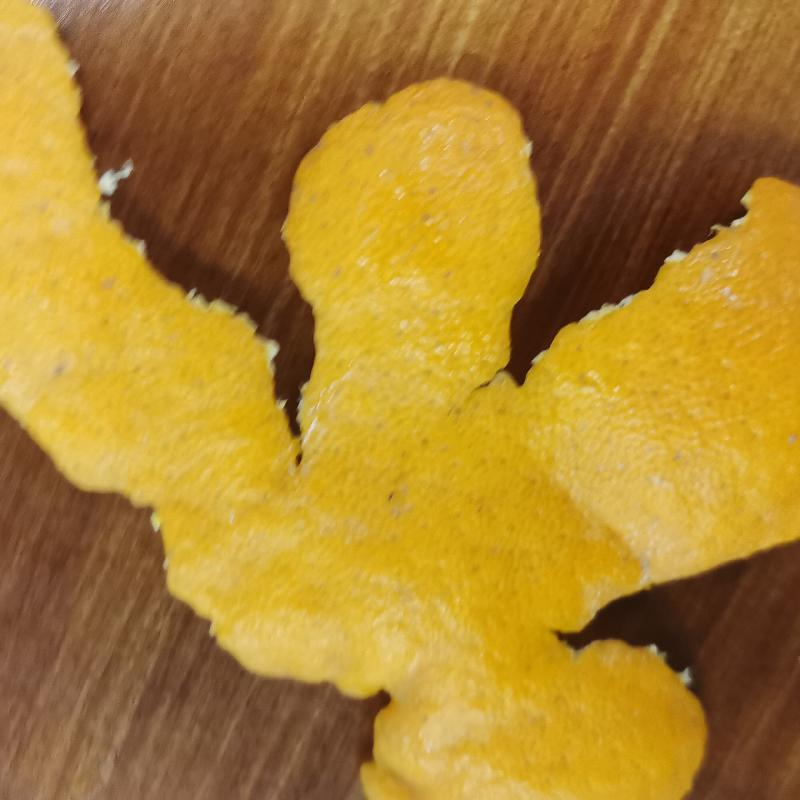orange: (2, 70, 799, 800)
